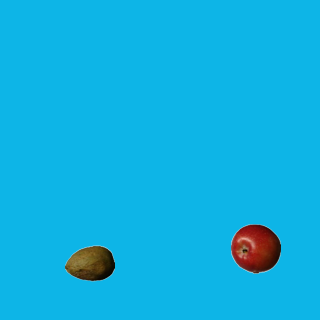Apple Braeburn: (230, 223, 280, 273)
Papaya: (64, 238, 114, 288)
